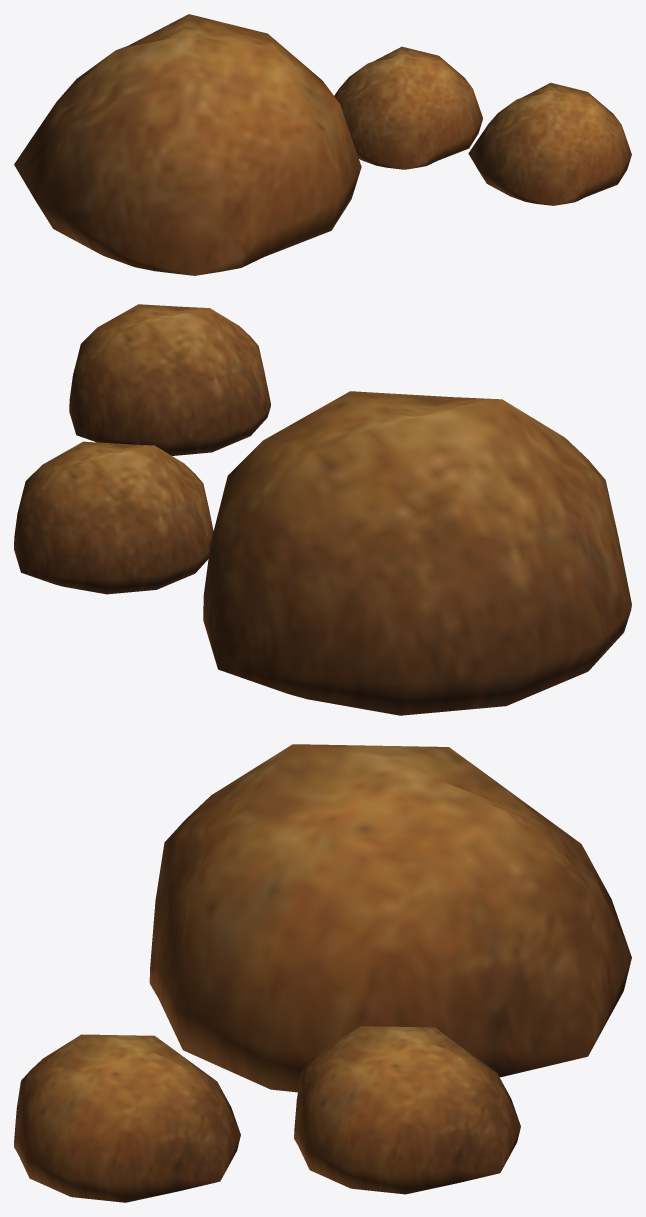
Rendered from Cartoon Seaweed_13-2-24.fbx.
3 views of the same model, one above another, from view 1: azimuth 30°, elevation 25°; view 2: azimuth 150°, elevation 25°; view 3: azimuth 270°, elevation 25° (orthographic). The views are drawn at different scales.
Visible parts, largest first — view 1: Cartoon Seaweed_13.2.24; view 2: Cartoon Seaweed_13.2.24; view 3: Cartoon Seaweed_13.2.24.
Boxes of the visible parts, left/top/right/bottom form: Cartoon Seaweed_13.2.24: left=14, top=14, right=631, bottom=275; Cartoon Seaweed_13.2.24: left=14, top=304, right=631, bottom=715; Cartoon Seaweed_13.2.24: left=14, top=744, right=631, bottom=1202.
Size of the model in its own units: 14.78 by 4.83 by 10.94.
Materials: 1 (1 with a texture image).
